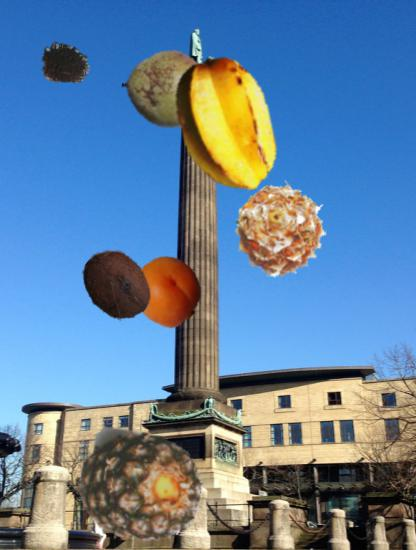Apricot: (133, 257, 202, 326)
Carambula: (156, 55, 295, 194)
Cocos: (79, 247, 155, 323)
Pear: (122, 32, 243, 153)
Pineapple: (78, 422, 206, 550), (232, 179, 332, 279)
Rambutan: (39, 39, 91, 91)
